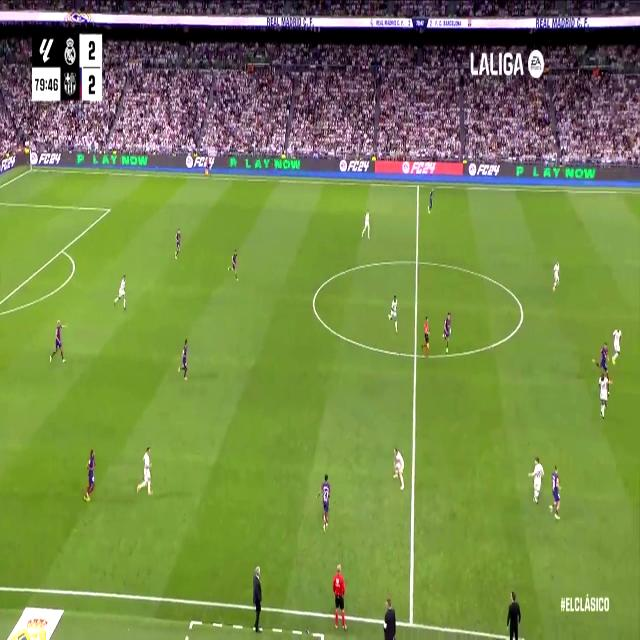bigarea_top_inner: (105, 202, 112, 216)
corner: (27, 163, 35, 173)
halfcircle_bottom: (411, 342, 421, 366)
halfcircle_top: (412, 250, 422, 272)
midline_bottom_intersection: (404, 606, 418, 635)
midline_top_intersection: (415, 179, 421, 193)
top_arc_area_intersection: (58, 242, 66, 257)
